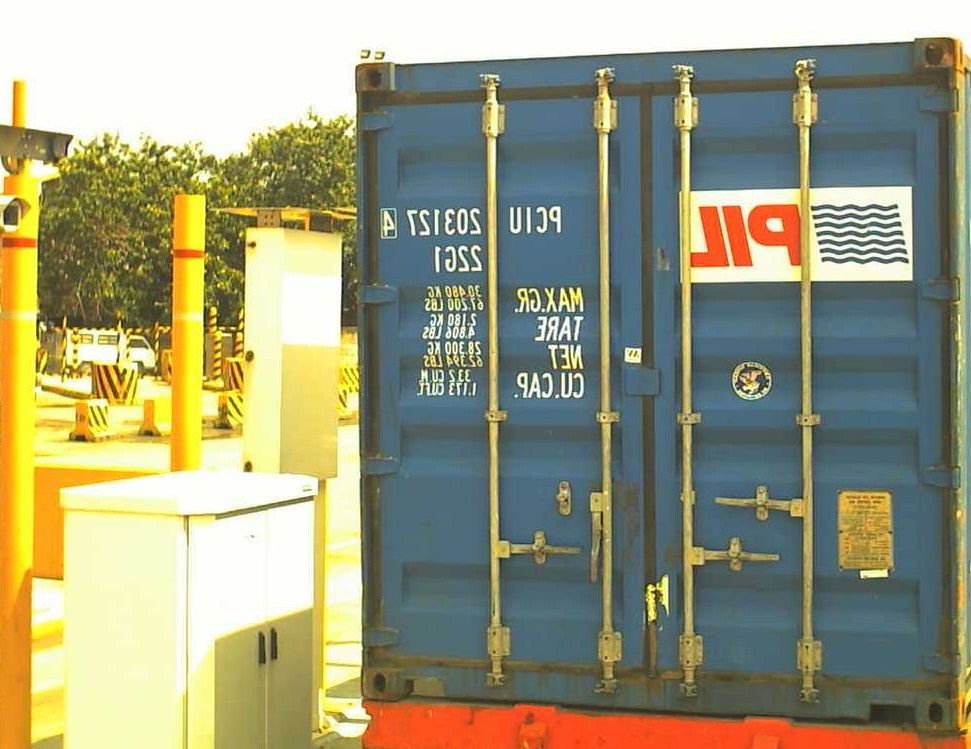container_door: (357, 40, 961, 733)
